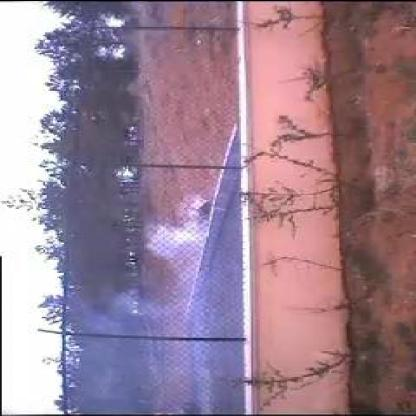-: (92, 216, 237, 377)
